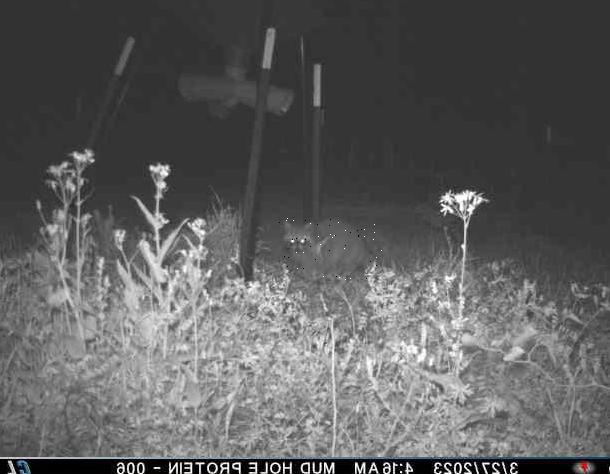Raccoon: (279, 218, 383, 280)
